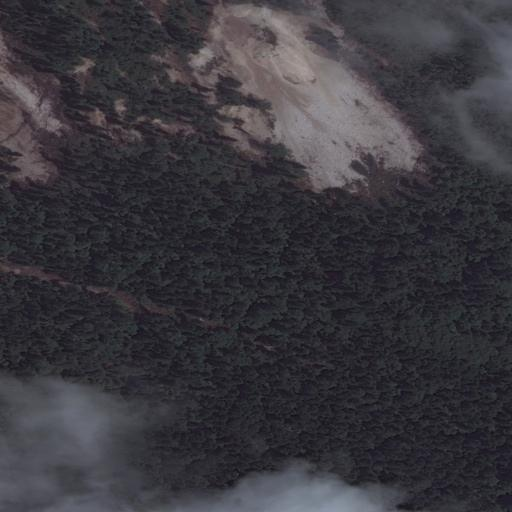landslide: (189, 1, 425, 194)
